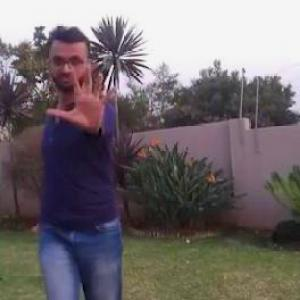follow_hand: (44, 52, 123, 130)
